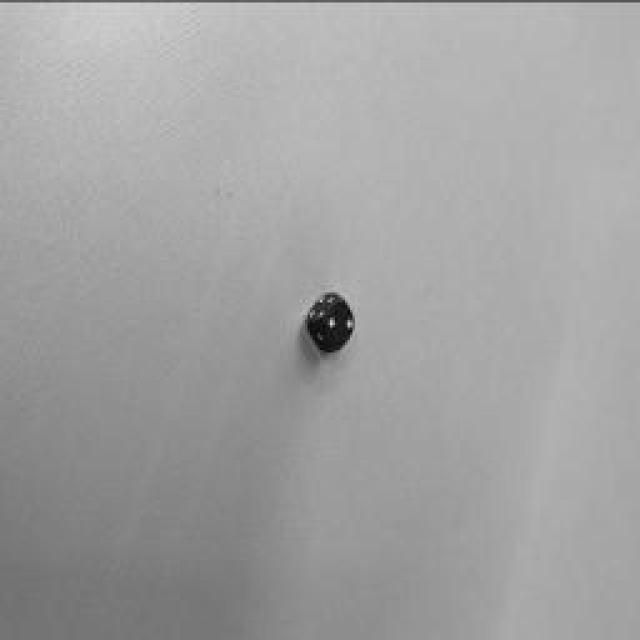dice_2: (326, 298, 354, 344)
